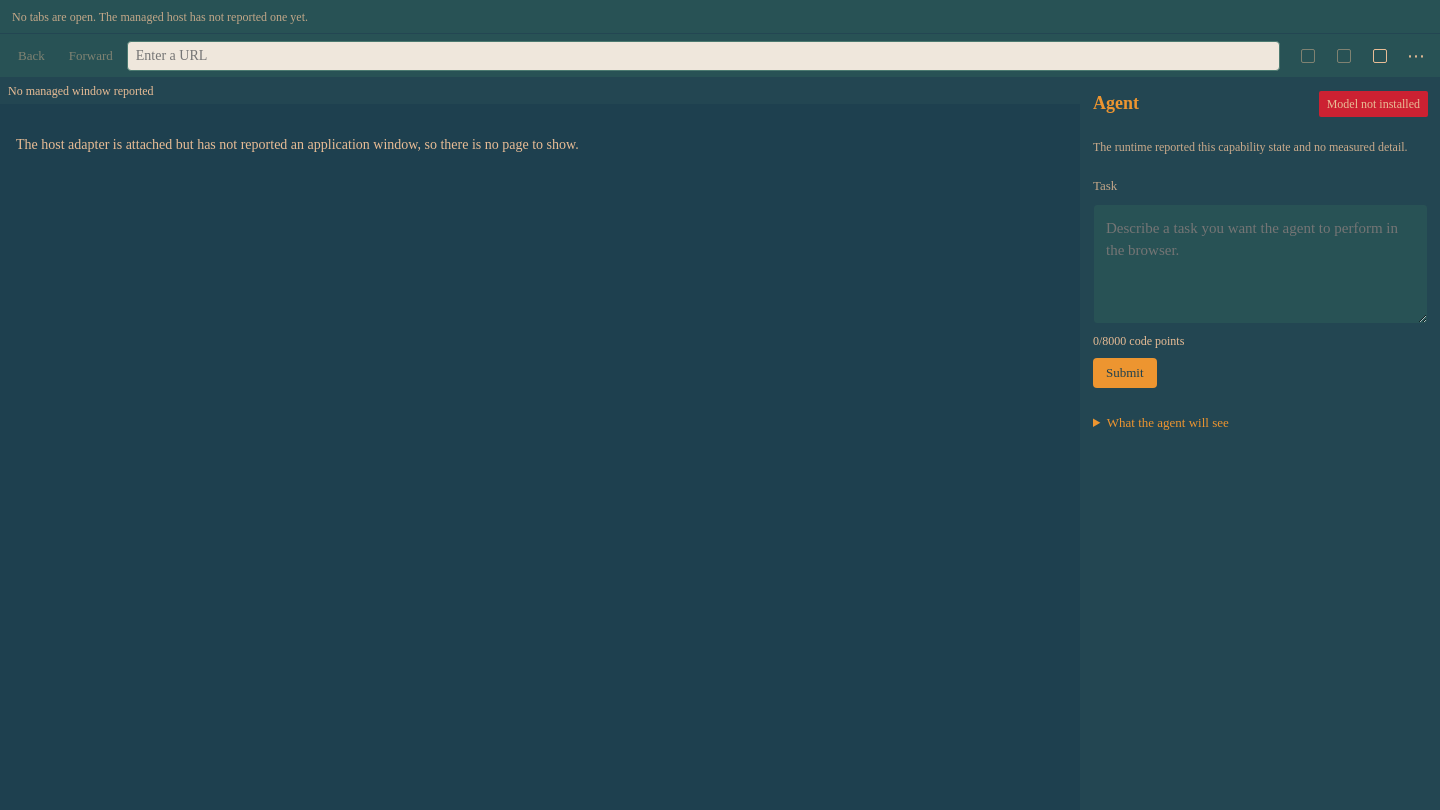
Test: shortcut documentation (Section 18.2) › documents exactly the implemented shortcuts, with platform key names
This screenshot has width=1440, height=810.
Step 1. Click the button named "Menu" → click(1416, 56), box [1400,40,1432,72]
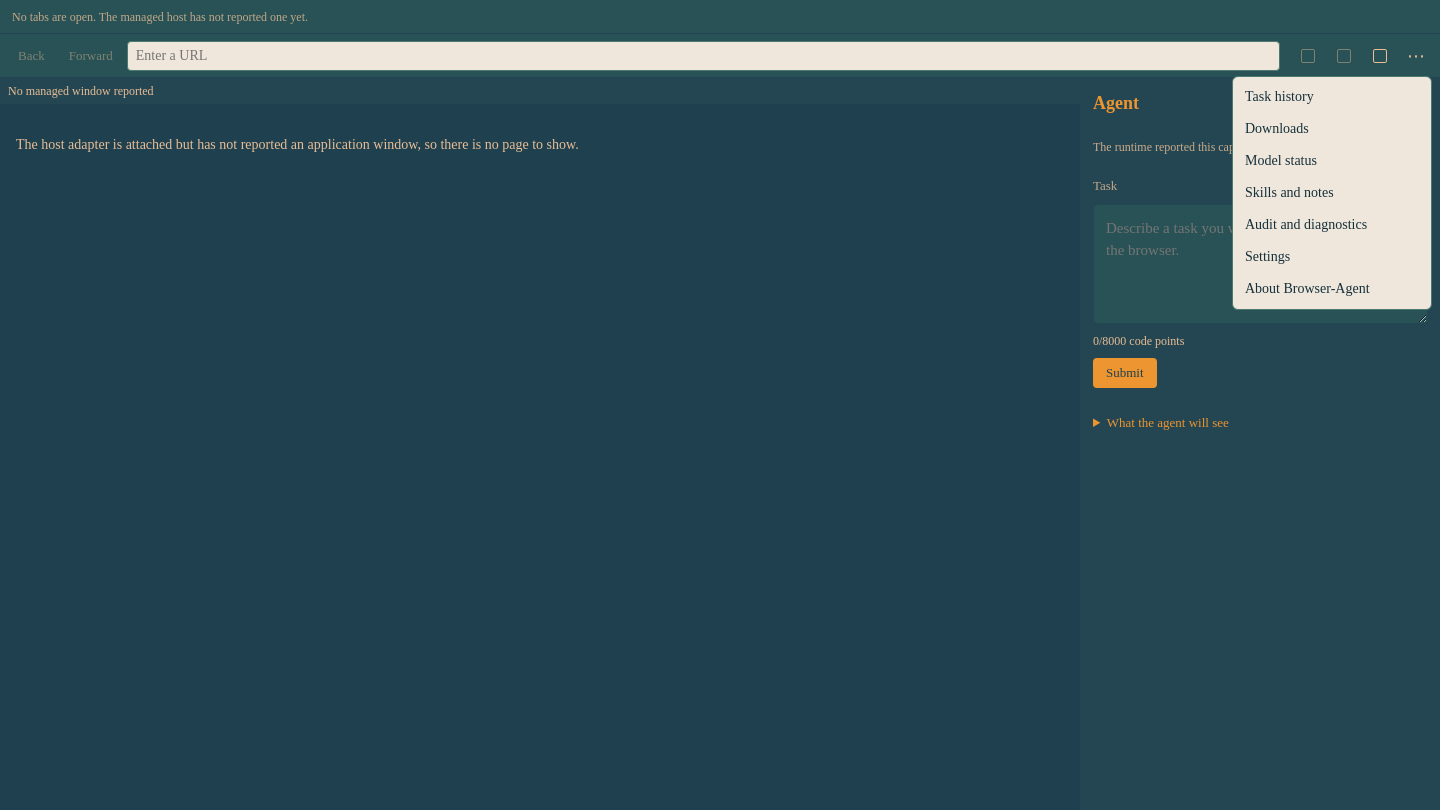
Step 2. Click the menu item "Settings" → click(1332, 256), box [1233,240,1431,272]
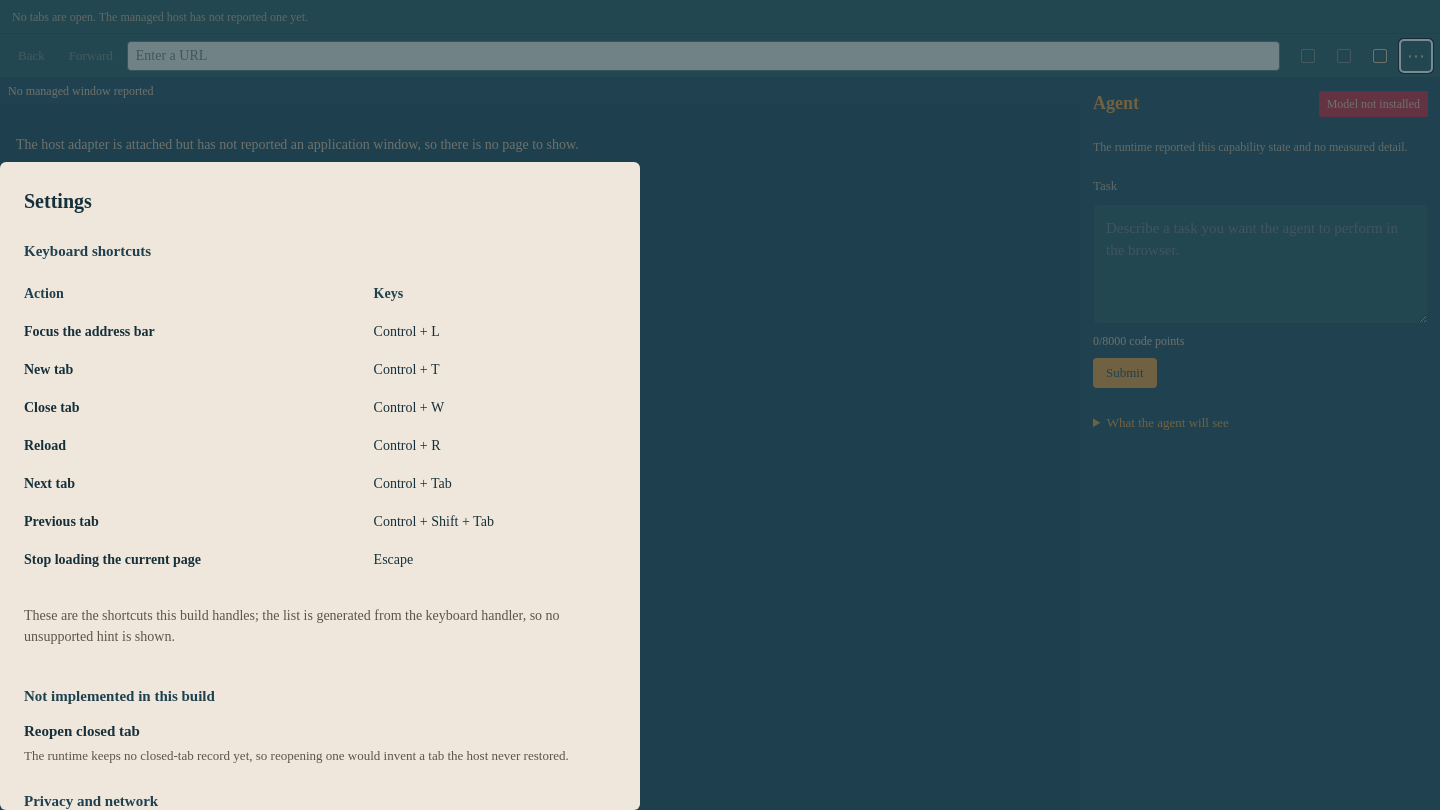
Result: the text "Focus the address bar" is shown at [24,312,374,350]
Result: the text "Control + L" is shown at [374,312,616,350]
Result: the text "New tab" is shown at [24,350,374,388]
